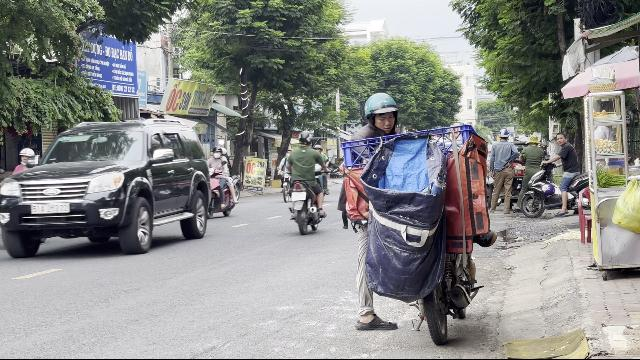helmet: (18, 146, 36, 164)
